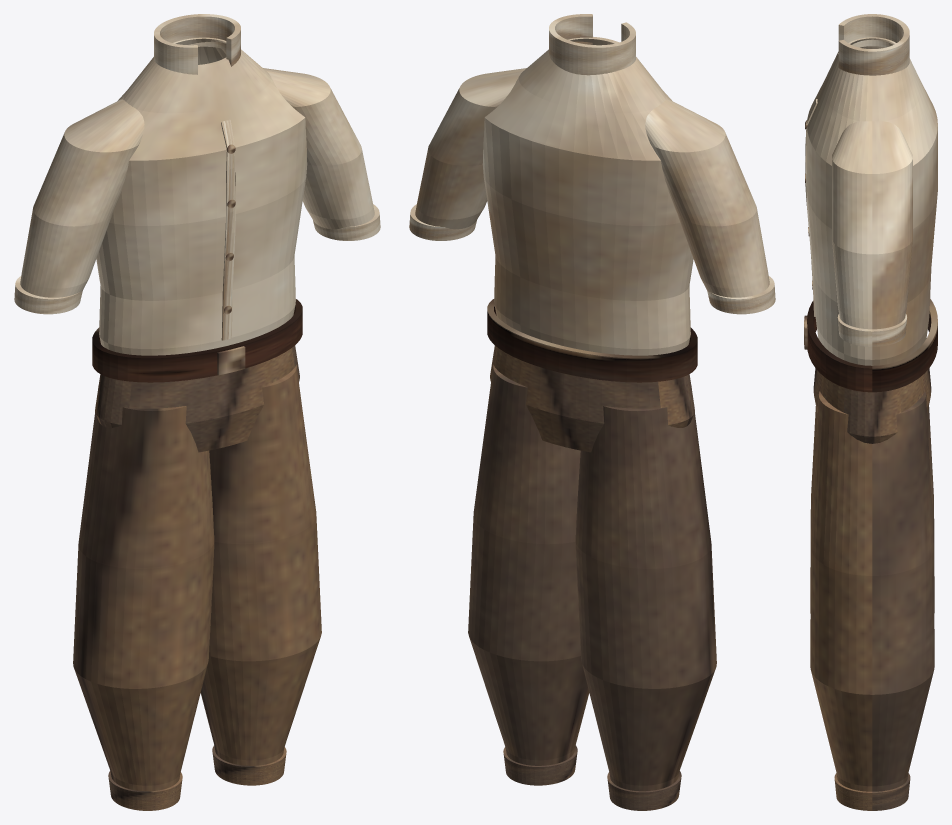
The picture shows the model from 3 angles, left to right: view 1: azimuth 30°, elevation 25°; view 2: azimuth 150°, elevation 25°; view 3: azimuth 270°, elevation 25°; orthographic projection.
Visible parts, largest first — view 1: shirt_body, left_trouser_leg, right_trouser_leg, left_shirt_sleeve, trouser_hips, right_shirt_sleeve, leather_waistband, shirt_collar, shirt_placket, right_trouser_cuff, left_trouser_cuff, left_shirt_cuff (+2 smaller); view 2: shirt_body, left_trouser_leg, right_trouser_leg, left_shirt_sleeve, trouser_hips, right_shirt_sleeve, leather_waistband, shirt_collar, right_trouser_cuff, left_trouser_cuff, left_shirt_cuff, right_shirt_cuff; view 3: right_trouser_leg, shirt_body, right_shirt_sleeve, leather_waistband, trouser_hips, shirt_collar, right_trouser_cuff, right_shirt_cuff, left_trouser_leg, shirt_placket.
Boxes of the visible parts, x1,y1,x2,y2 form: shirt_body: [96, 37, 307, 355]; left_trouser_leg: [73, 386, 214, 791]; right_trouser_leg: [200, 365, 321, 765]; left_shirt_sleeve: [20, 99, 144, 297]; trouser_hips: [95, 345, 299, 452]; right_shirt_sleeve: [263, 68, 374, 229]; leather_waistband: [92, 299, 302, 382]; shirt_collar: [154, 14, 240, 74]; shirt_placket: [221, 119, 235, 340]; right_trouser_cuff: [212, 745, 286, 785]; left_trouser_cuff: [108, 771, 182, 810]; left_shirt_cuff: [14, 276, 82, 314]; shirt_body: [482, 36, 693, 355]; left_trouser_leg: [575, 386, 716, 791]; right_trouser_leg: [468, 365, 589, 765]; left_shirt_sleeve: [645, 99, 769, 297]; trouser_hips: [490, 345, 694, 452]; right_shirt_sleeve: [415, 68, 526, 229]; leather_waistband: [487, 299, 697, 382]; shirt_collar: [549, 14, 635, 75]; right_trouser_cuff: [503, 745, 577, 785]; left_trouser_cuff: [607, 771, 681, 810]; left_shirt_cuff: [707, 276, 775, 314]; right_shirt_cuff: [409, 204, 476, 240]; right_trouser_leg: [810, 391, 934, 791]; shirt_body: [807, 37, 937, 365]; right_shirt_sleeve: [832, 121, 912, 329]; leather_waistband: [807, 298, 937, 392]; trouser_hips: [813, 368, 931, 443]; shirt_collar: [838, 14, 909, 75]; right_trouser_cuff: [834, 773, 910, 810]; right_shirt_cuff: [837, 314, 906, 346]; left_trouser_leg: [810, 406, 934, 613]; shirt_placket: [805, 99, 817, 316].
Size of the model in its own units: 54.11 by 109 by 17.9.
Materials: 4 (4 with a texture image).
